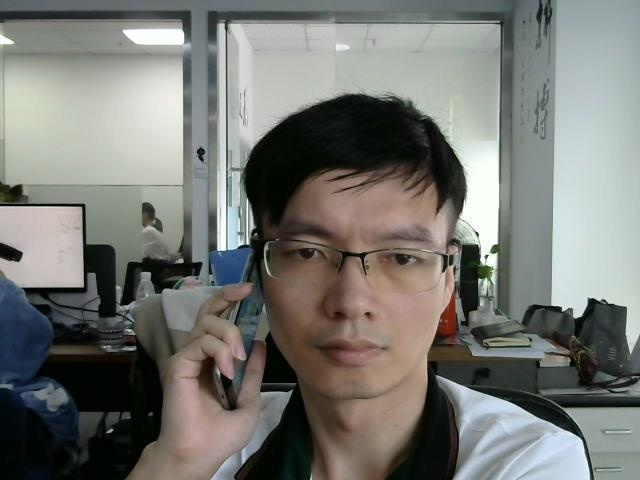hand: (168, 281, 265, 436)
